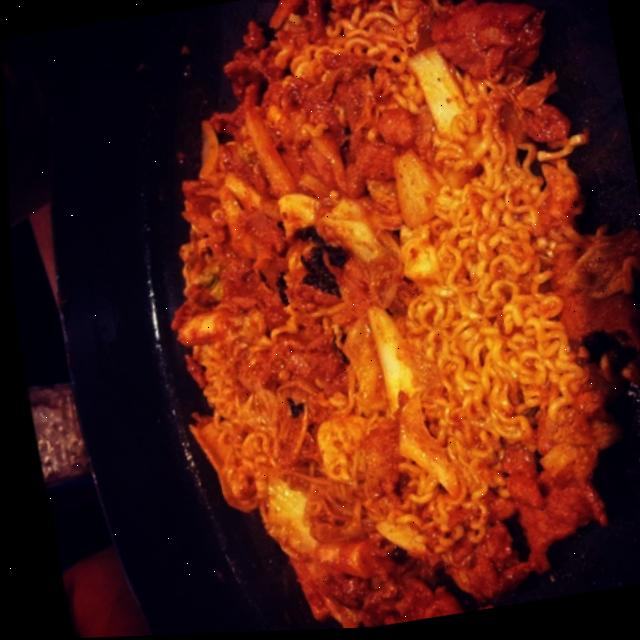鸡肉料理 含炸鸡: (102, 0, 640, 637)
